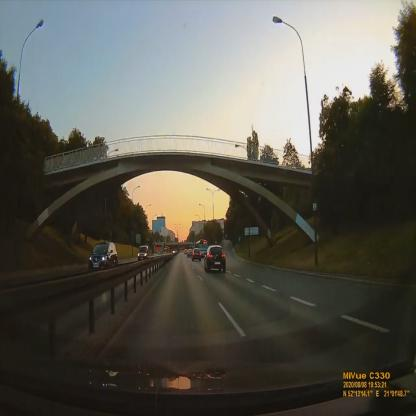cars: (89, 242, 118, 269), (204, 246, 226, 273), (138, 246, 149, 260), (192, 249, 202, 262)
